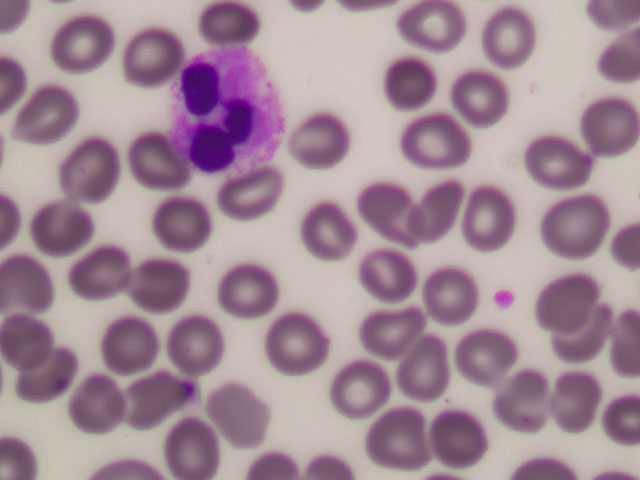Platelets: (489, 284, 516, 312)
RBC: (156, 418, 224, 480), (48, 13, 116, 74), (110, 20, 178, 81), (206, 2, 274, 63), (54, 143, 122, 204), (19, 88, 87, 149), (27, 203, 95, 264), (76, 241, 144, 302), (108, 255, 176, 316), (147, 184, 215, 245), (119, 138, 187, 199), (223, 158, 291, 219), (283, 109, 351, 170), (375, 53, 443, 114), (441, 70, 509, 131), (402, 113, 470, 174), (407, 175, 475, 236), (358, 182, 426, 243), (303, 201, 371, 262), (349, 253, 417, 314), (425, 271, 493, 332), (453, 192, 521, 253), (513, 130, 581, 191), (570, 95, 638, 156), (540, 191, 608, 252), (530, 268, 598, 329), (550, 307, 618, 368), (538, 364, 606, 425), (493, 370, 561, 431), (449, 325, 517, 386), (393, 342, 461, 403), (365, 303, 433, 364), (311, 360, 379, 421), (261, 316, 329, 377), (210, 259, 278, 320), (173, 314, 241, 375), (85, 316, 153, 377), (130, 367, 198, 428), (64, 376, 132, 437), (12, 346, 80, 407), (1, 255, 69, 316), (206, 383, 274, 444), (349, 402, 417, 463), (422, 403, 490, 464), (1, 320, 68, 381), (387, 1, 455, 61), (466, 1, 534, 61), (599, 29, 640, 88)
WBC: (170, 39, 281, 171)
